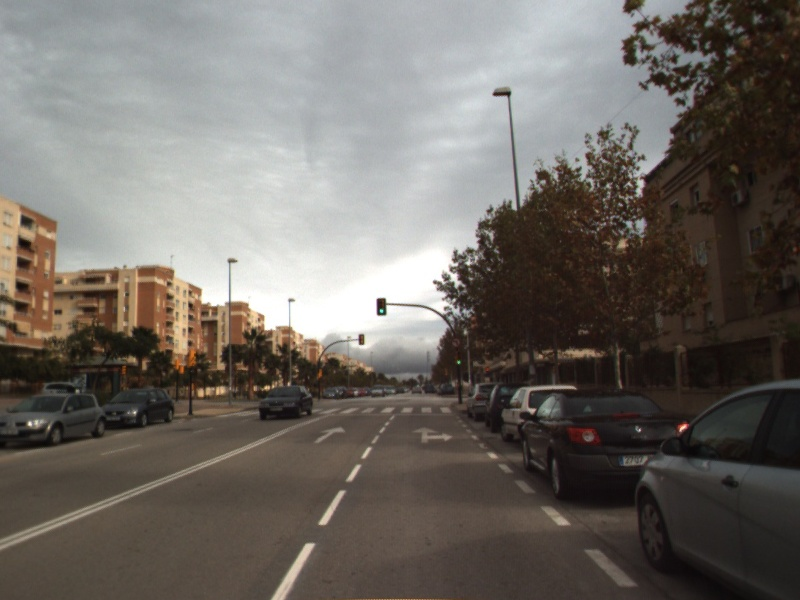STRAIGHT: (312, 424, 348, 445)
STRAIGHT_RIGHT: (410, 424, 455, 445)
